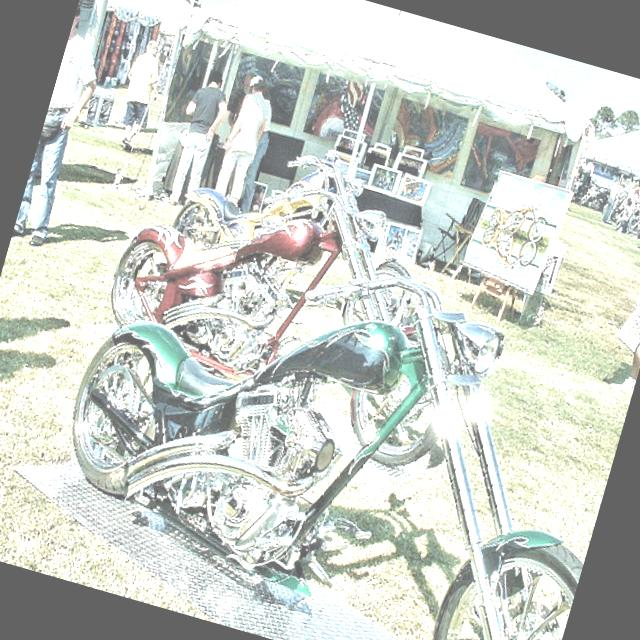Vehicle: (23, 190, 640, 640), (80, 98, 510, 480), (166, 126, 346, 280), (576, 175, 606, 212)
